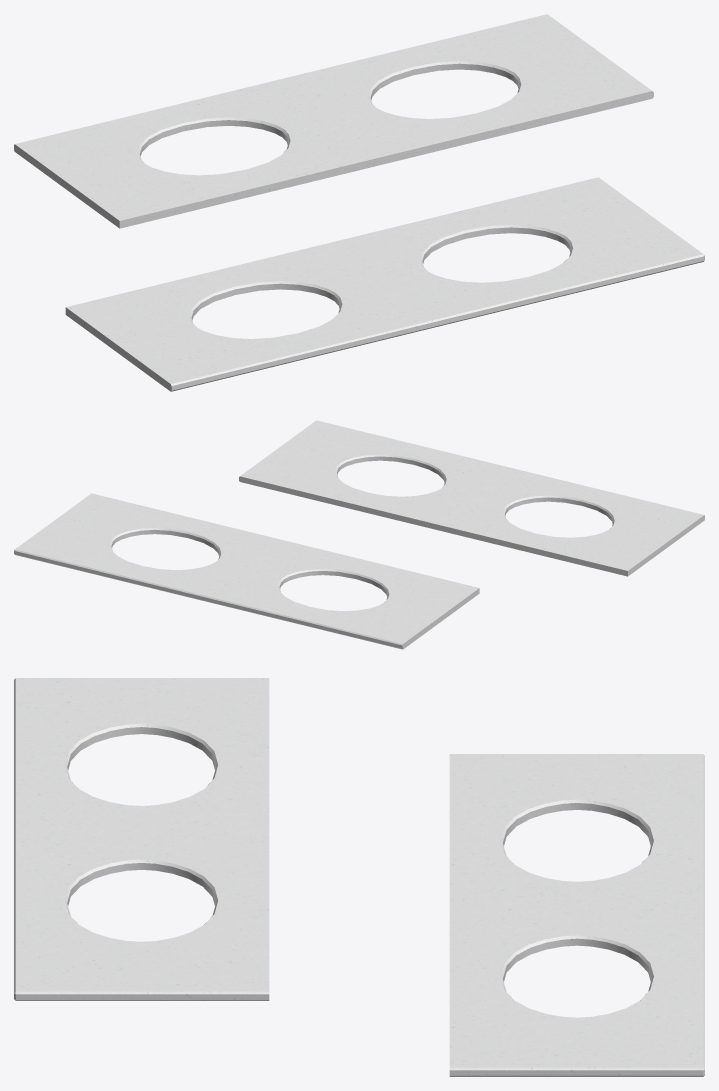
Rendered from 2345_bathroom_CounterTops_QuartzArcticWhite.gltf.
3 renders of one model, top to bottom at view 1: azimuth 30°, elevation 25°; view 2: azimuth 150°, elevation 25°; view 3: azimuth 270°, elevation 25°, orthographic. The views are drawn at different scales.
Visible parts, largest first — view 1: Line23784; view 2: Line23784; view 3: Line23784.
Part boxes in pixels (x1,y1,x2,y2): Line23784: (14,14,704,391); Line23784: (14,420,704,649); Line23784: (14,678,704,1076).
Size of the model in its own units: 3.6 by 0.04 by 2.7.
1 material, 1 textured.
